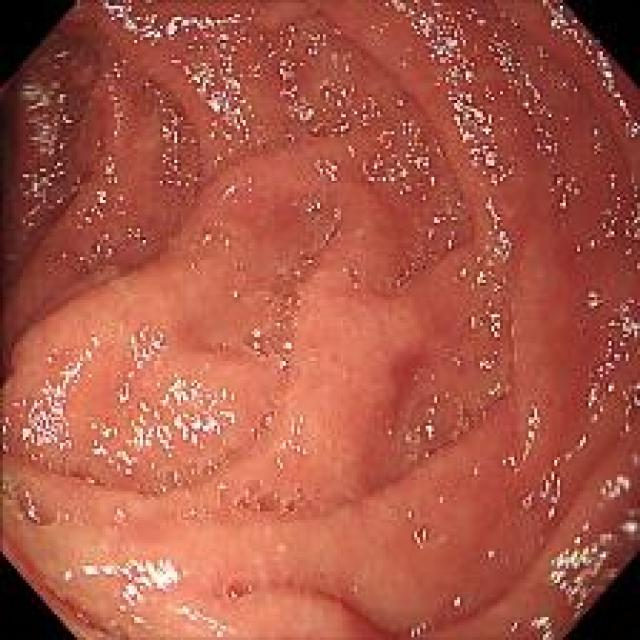bubbles: (240, 280, 301, 365), (406, 388, 472, 461), (4, 478, 68, 535), (375, 239, 438, 295), (231, 472, 292, 524), (400, 502, 449, 556), (359, 145, 414, 190), (282, 406, 315, 468), (536, 54, 580, 100), (150, 461, 219, 490), (246, 394, 280, 446), (221, 566, 265, 602), (339, 256, 368, 290), (176, 502, 219, 521), (105, 501, 131, 532), (576, 314, 592, 340)
specularity: (68, 1, 634, 204), (392, 0, 562, 185), (124, 328, 235, 466), (280, 15, 388, 141), (159, 8, 264, 132), (61, 550, 216, 631), (578, 365, 636, 580), (585, 149, 636, 390), (462, 201, 516, 404), (545, 6, 634, 126), (515, 395, 579, 528), (30, 338, 100, 458), (26, 74, 79, 210), (89, 155, 151, 261), (548, 521, 605, 600), (15, 81, 41, 249), (84, 414, 145, 474), (419, 190, 468, 256), (298, 196, 344, 264), (176, 224, 242, 270), (0, 392, 42, 462), (246, 320, 298, 365), (301, 146, 349, 194), (172, 604, 236, 635), (502, 608, 560, 635), (212, 176, 241, 206), (455, 262, 479, 286), (404, 614, 430, 634), (444, 595, 464, 611), (482, 545, 500, 562)
